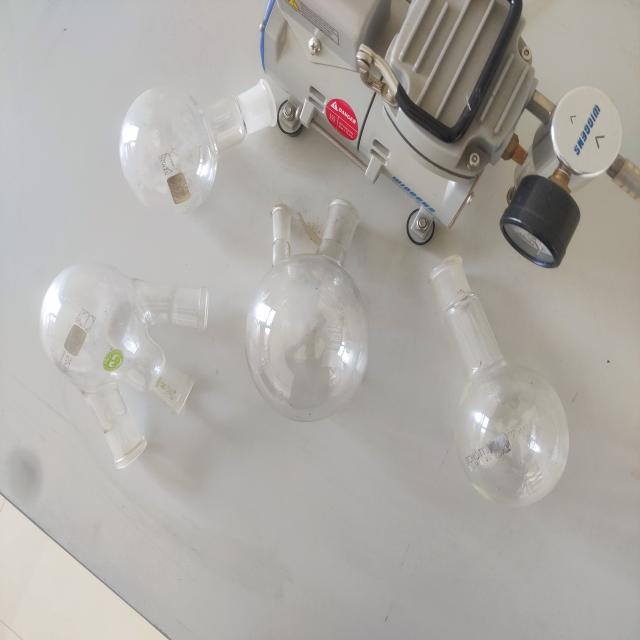Round_Bottom_Flask_Borosilicate_Glass_1_Neck: (407, 214, 592, 548), (108, 45, 308, 224)
Round_Bottom_Flask_Borosilicate_Glass_2_Neck: (244, 169, 388, 436)
Round_Bottom_Flask_Borosilicate_Glass_3_Neck: (20, 218, 231, 524)
